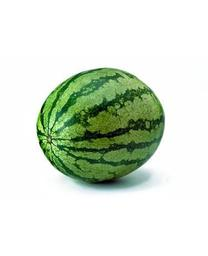watermelon: (35, 67, 165, 185)
